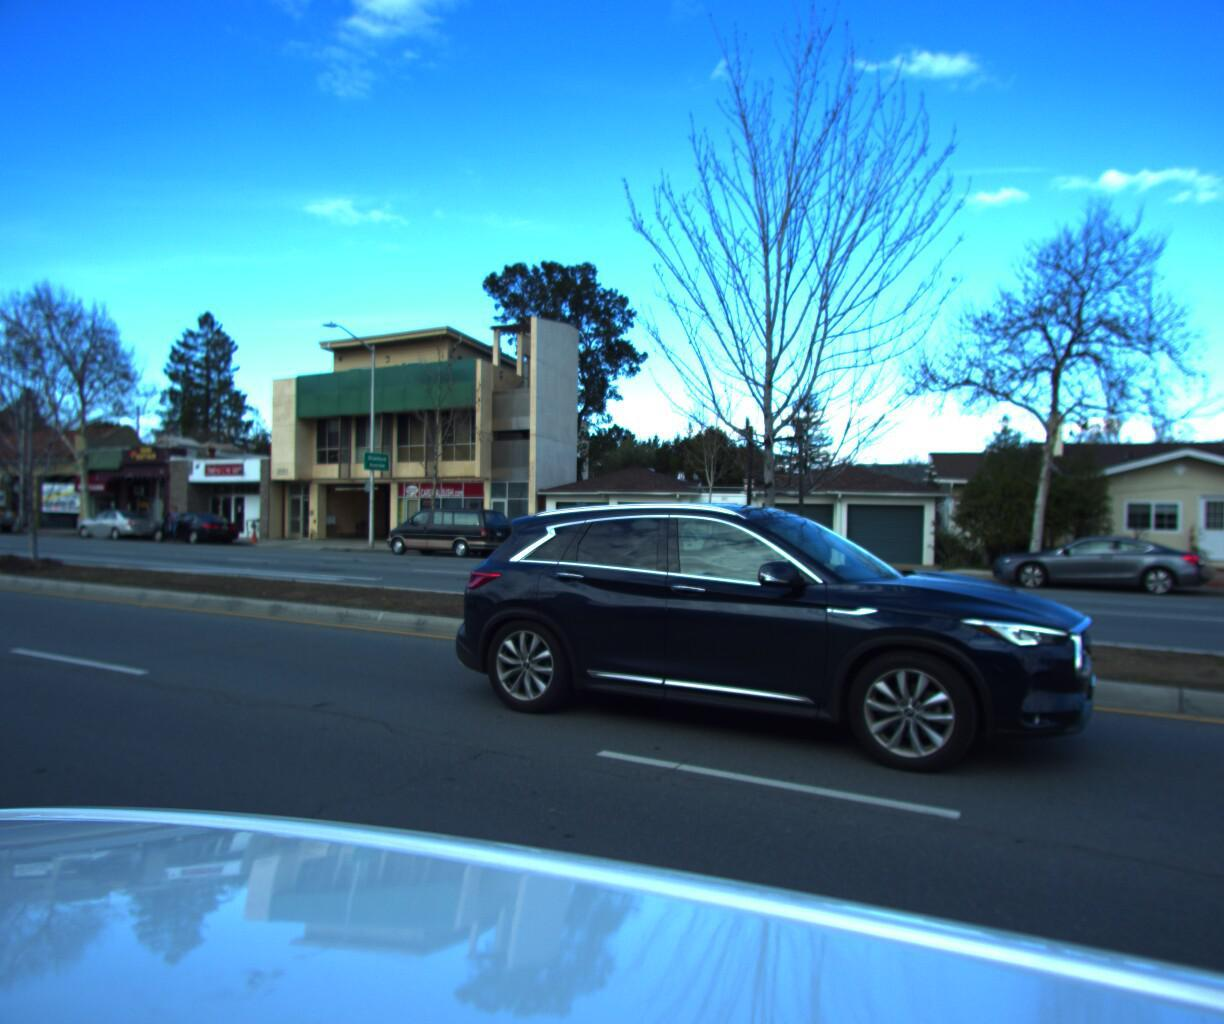car: (433, 496, 1098, 808), (979, 524, 1218, 595), (379, 499, 518, 557), (141, 506, 242, 541), (66, 504, 165, 537)
